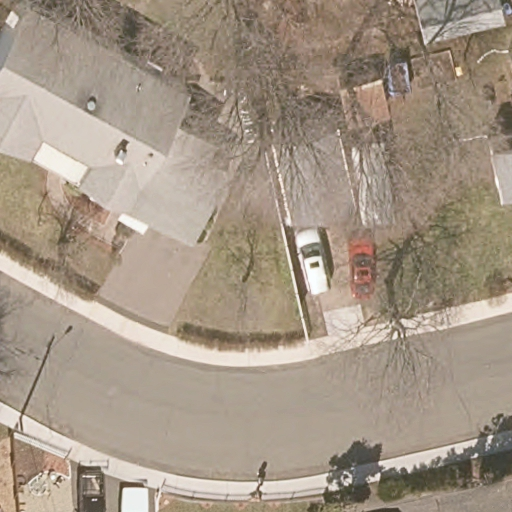DT: (10, 412, 36, 441)
